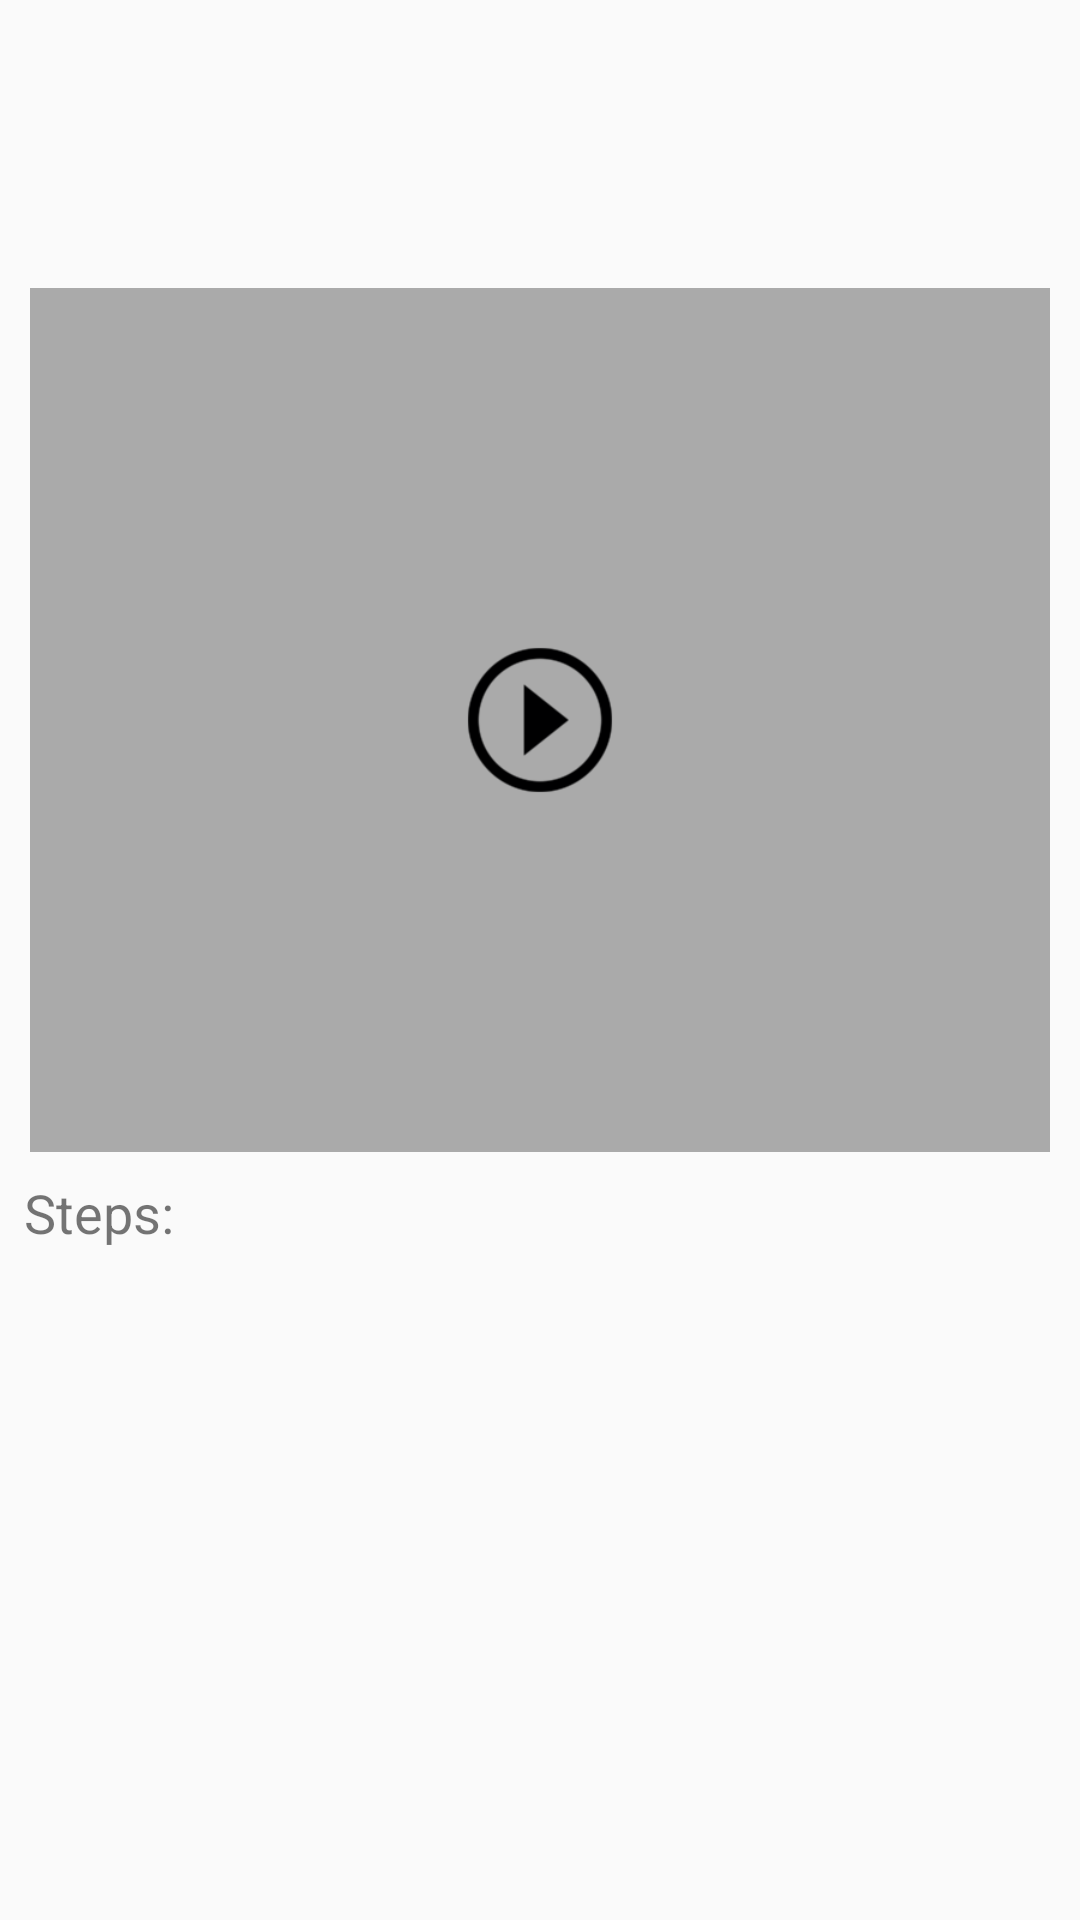

Icon click points for this 1080w x 1920h phone screenshot, format point (x, y):
play video: point (540, 720)
